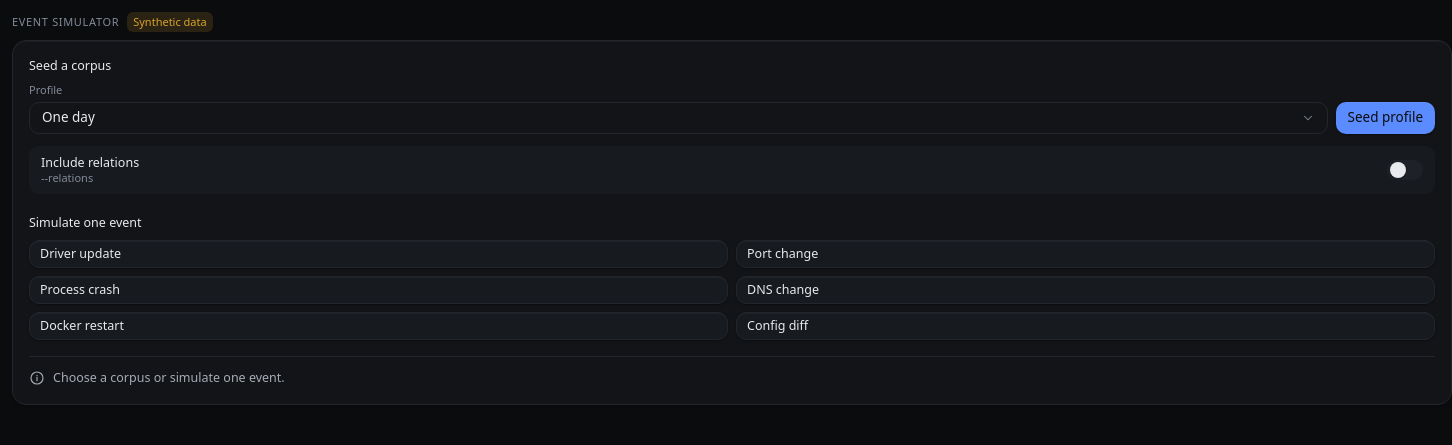
Scenario: DevSimulationPanel › makes the linked demo relations mandatory and discloses the fictional story
Press Enter in the button with aria-label "Synthetic data profile", box [29, 102, 1328, 134]
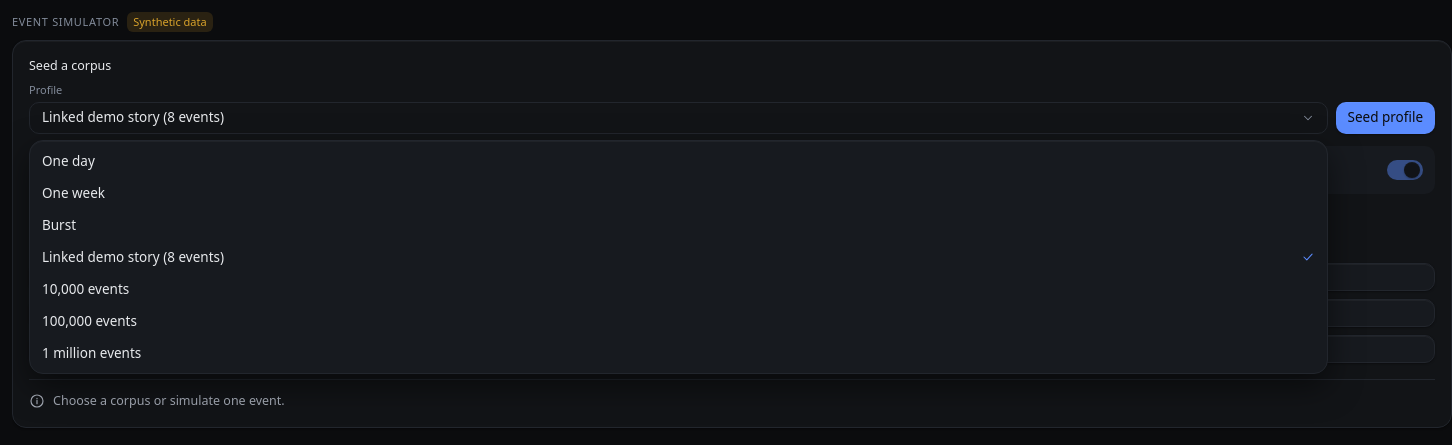
Expected: the text "Fictional observations and historical edges for a walkthrough; no causal claim." is shown, [29, 201, 432, 216]
Expected: the list is shown, [29, 140, 1328, 374]
Expected: the switch named "Include synthetic entity relations" is disabled, [1387, 160, 1423, 180]
Click the button "Seed profile".
click(1385, 118)  # box [1336, 102, 1435, 134]
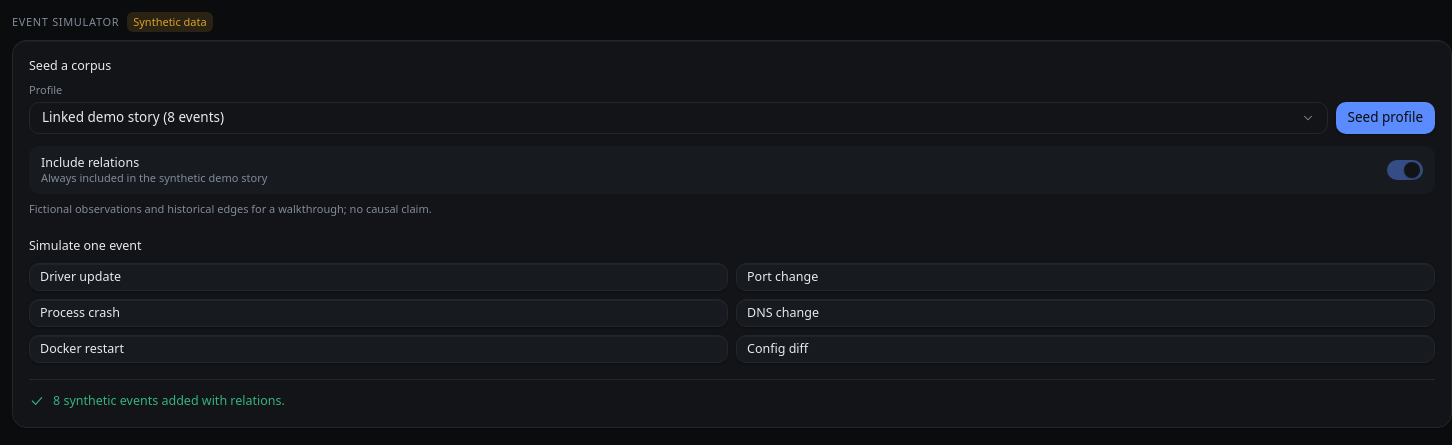
Expected: the message reads "8 synthetic events added with relations.", [53, 392, 285, 409]
